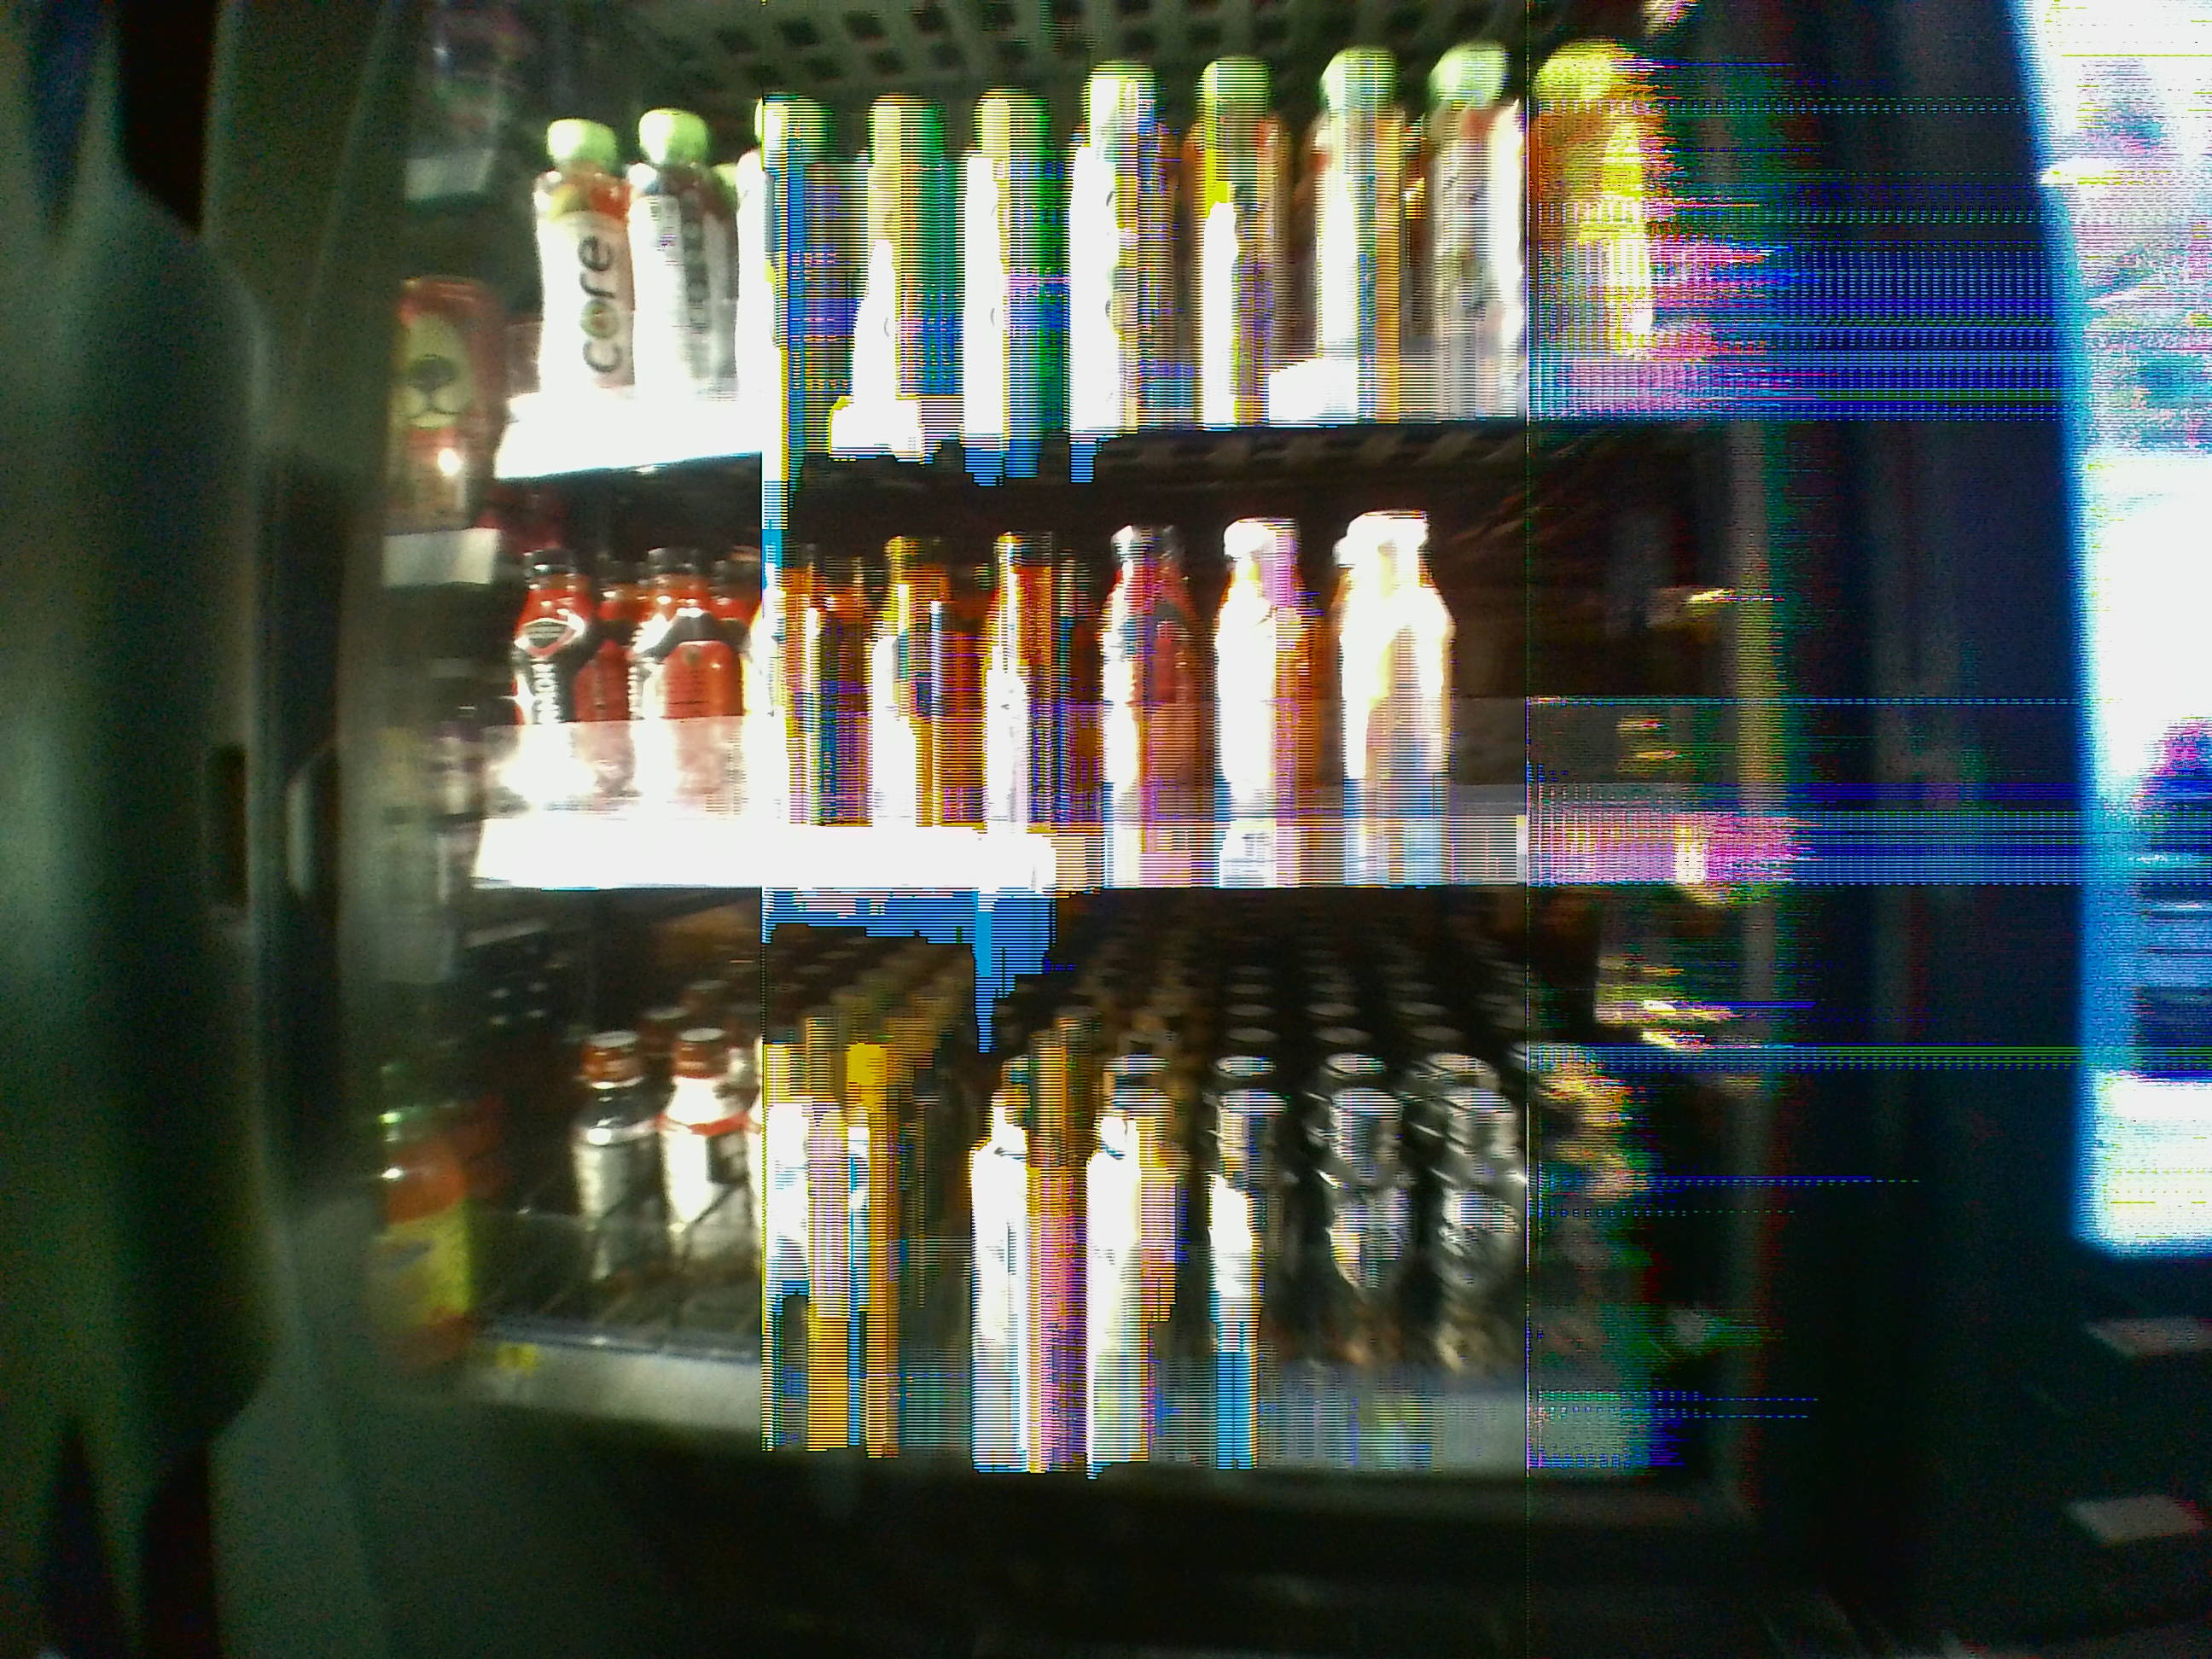shelf: (491, 420, 1763, 901)
